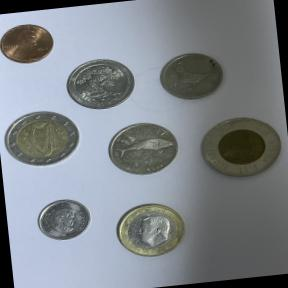coin: (190, 102, 288, 187), (104, 191, 198, 264), (97, 110, 189, 184), (0, 103, 85, 173), (61, 50, 144, 114), (0, 11, 66, 72), (29, 190, 98, 248)
